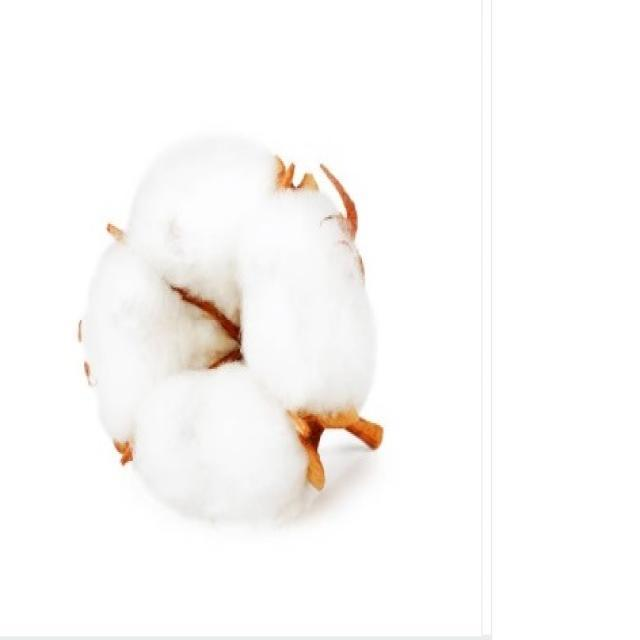Matured Cotton Boll: (67, 121, 389, 535)
